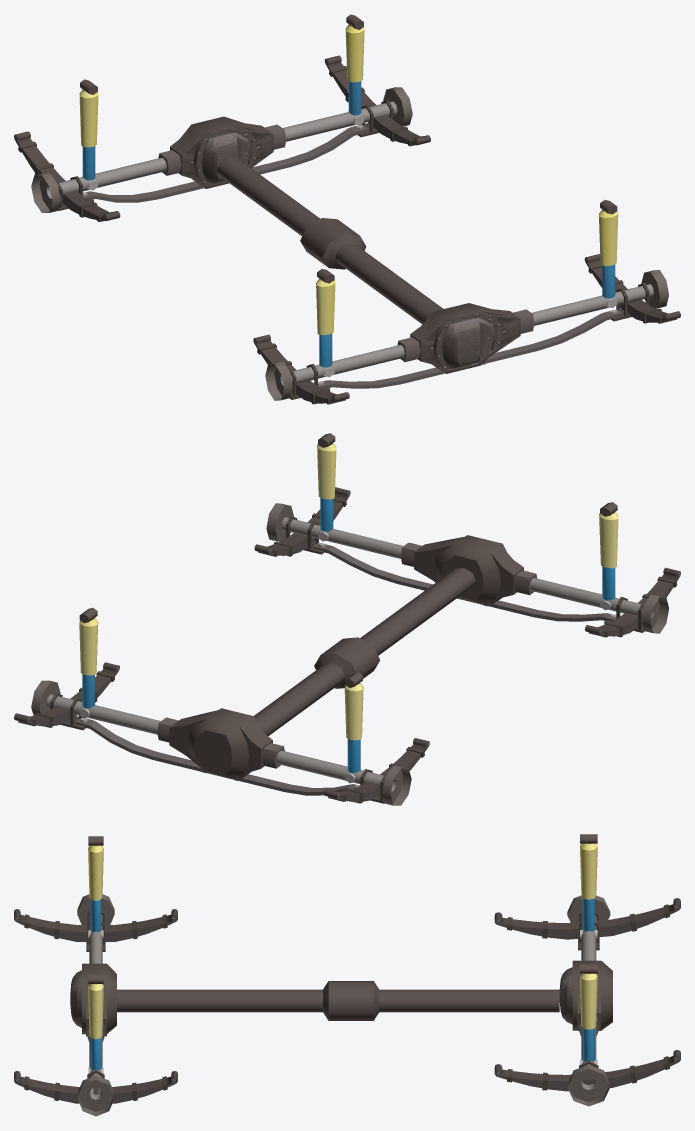
The model's file is complete_susspension.fbx.
3 views of the same model, one above another, from view 1: azimuth 30°, elevation 25°; view 2: azimuth 150°, elevation 25°; view 3: azimuth 270°, elevation 25° (orthographic).
Parts seen in each view (by area): view 1: node_id426, node_id473; view 2: node_id426, node_id473; view 3: node_id426, node_id473.
Part boxes in pixels (x1,y1,x2,y2): node_id426: (217, 157, 680, 404); node_id473: (14, 14, 430, 222); node_id426: (254, 433, 680, 736); node_id473: (14, 608, 429, 805); node_id426: (14, 836, 559, 1116); node_id473: (494, 834, 680, 1106).
Bounding box in the file's own units: 0.46 × 0.1565 × 0.689.
Materials: 2 (2 with a texture image).
